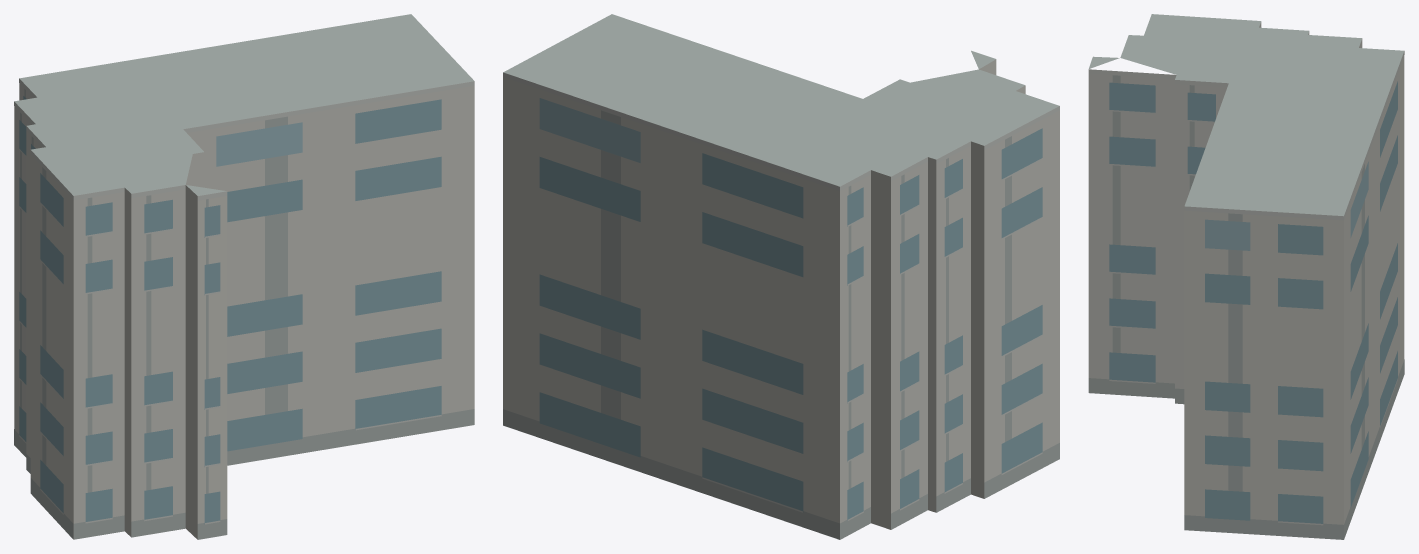
File: survey-upis-32579366.glb
3 views of the same model, side by side, from view 1: azimuth 30°, elevation 25°; view 2: azimuth 150°, elevation 25°; view 3: azimuth 270°, elevation 25° (orthographic). The views are drawn at different scales.
Visible parts, largest first — view 1: survey-upis-32579366.tmp; view 2: survey-upis-32579366.tmp; view 3: survey-upis-32579366.tmp.
Part boxes in pixels (x1,y1,x2,y2): survey-upis-32579366.tmp: (14,14,474,539); survey-upis-32579366.tmp: (503,14,1059,539); survey-upis-32579366.tmp: (1088,14,1404,539).
Bounding box in the file's own units: 24.52 × 18.3 × 16.19.
